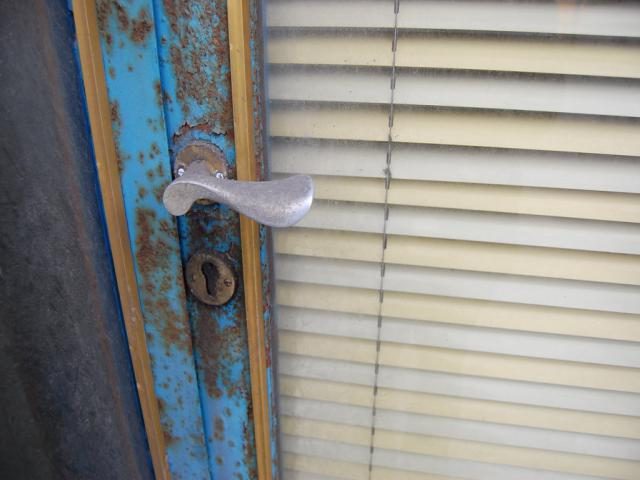Door-handle: (162, 140, 314, 230)
